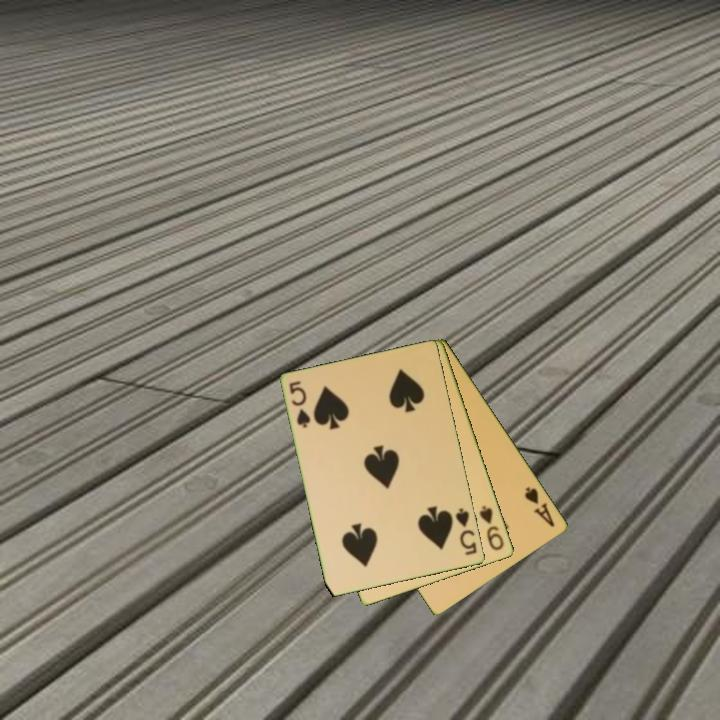5s: (452, 504, 480, 558), (286, 377, 314, 431)
9s: (476, 502, 507, 554)
As: (521, 483, 558, 530)
